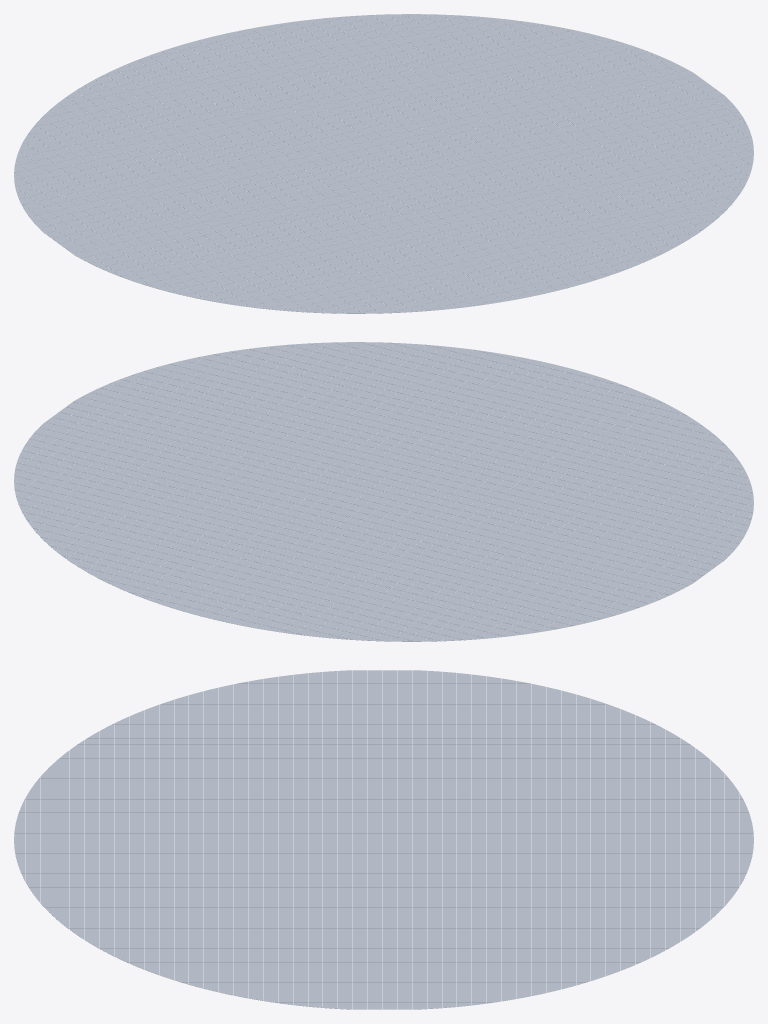
File: digicraft.glb
3 views of the same model, one above another, from view 1: azimuth 30°, elevation 25°; view 2: azimuth 150°, elevation 25°; view 3: azimuth 270°, elevation 25° (orthographic). The views are drawn at different scales.
Visible parts, largest first — view 1: Cube.028; view 2: Cube.028; view 3: Cube.028.
Boxes of the visible parts, x1=… form: Cube.028: x1=14, y1=14, x2=753, y2=313; Cube.028: x1=14, y1=342, x2=753, y2=641; Cube.028: x1=14, y1=670, x2=753, y2=1009.
Bounding box in the file's own units: 550 × 0.1 × 507.
